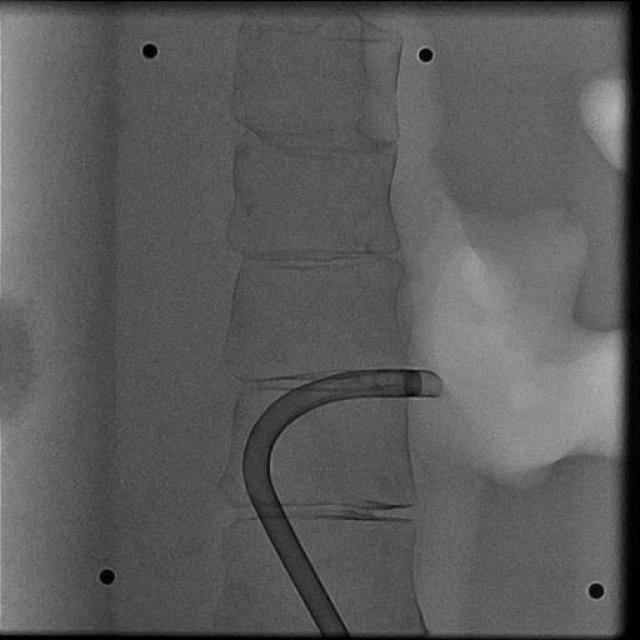bend: (243, 477, 277, 498)
entry: (319, 628, 349, 636)
marker: (402, 369, 422, 397)
tip: (428, 372, 444, 398)
